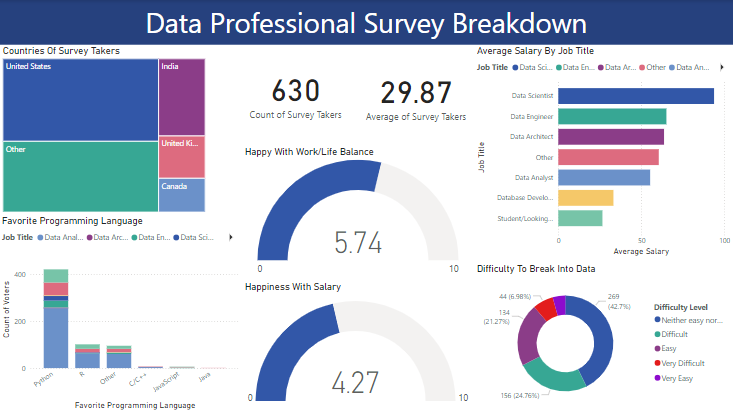

The page's visual inventory and layout, read from the dashboard file:
{"tool":"powerbi","page":{"name":"Page 1","canvas":[1280,720],"ordinal":0},"visuals":[{"type":"textbox","box":[10,0,280,280],"z":0},{"type":"textbox","box":[0,0,1280.2,77.8],"z":1000},{"type":"card","fields":{"Values":["CountNonNull(Data Professional Survey.Unique ID)"]},"box":[408.1,78.5,218,163.9],"z":2000},{"type":"card","fields":{"Values":["Avg(Data Professional Survey.Q10 - Current Age)"]},"box":[626,78.5,202.3,172.6],"z":3000},{"type":"barChart","title":"Average Salary By Job Title","fields":{"Category":["Data Professional Survey.Q1 - Which Title Best Fits your Current Role?.1.1"],"Y":["Avg(Data Professional Survey.Average Salary)"],"Series":["Data Professional Survey.Q1 - Which Title Best Fits your Current Role?.1.1"]},"box":[828.3,78.5,451.7,373.2],"z":4000},{"type":"columnChart","title":"Favorite Programming Language","fields":{"Category":["Data Professional Survey.Q5 - Favorite Programming Language.1"],"Y":["CountNonNull(Data Professional Survey.Unique ID)"],"Series":["Data Professional Survey.Q1 - Which Title Best Fits your Current Role?.1.1"]},"box":[0,374.9,423.8,345.3],"z":5000},{"type":"treemap","title":"Countries Of Survey Takers","fields":{"Group":["Data Professional Survey.Q11 - Which Country do you live in?.1"],"Values":["CountNonNull(Data Professional Survey.Q11 - Which Country do you live in?.1)"]},"box":[1.7,78.5,362.7,296.5],"z":5001},{"type":"gauge","title":"Happy With Work/Life Balance","fields":{"Y":["Avg(Data Professional Survey.Q6 - How Happy are you in your Current Position with the following? (Work/Life Balance))"],"MinValue":["Min(Data Professional Survey.Q6 - How Happy are you in your Current Position with the following? (Work/Life Balance))"],"MaxValue":["Max(Data Professional Survey.Q6 - How Happy are you in your Current Position with the following? (Work/Life Balance))1"]},"box":[423.8,254.6,404.6,235.4],"z":5002},{"type":"gauge","title":"Happiness With Salary","fields":{"Y":["Avg(Data Professional Survey.Q6 - How Happy are you in your Current Position with the following? (Salary))"],"MinValue":["Min(Data Professional Survey.Q6 - How Happy are you in your Current Position with the following? (Salary))"],"MaxValue":["Max(Data Professional Survey.Q6 - How Happy are you in your Current Position with the following? (Salary))"]},"box":[423.8,490,404.6,230.2],"z":5003},{"type":"donutChart","title":"Difficulty To Break Into Data ","fields":{"Category":["Data Professional Survey.Q7 - How difficult was it for you to break into Data?"],"Y":["CountNonNull(Data Professional Survey.Q7 - How difficult was it for you to break into Data?)"]},"box":[828.3,458.6,451.7,261.6],"z":5004}]}

Visuals, with their boxes in screenshot pixels (x1, y1, x2, y2), scaled from the page's 1280x720 canvas onto the 733x412 screenshot:
textbox: box(6, 0, 166, 160)
textbox: box(0, 0, 732, 45)
card - CountNonNull(Data Professional Survey.Unique ID): box(234, 45, 359, 139)
card - Avg(Data Professional Survey.Q10 - Current Age): box(358, 45, 474, 144)
"Average Salary By Job Title" barChart: box(474, 45, 732, 258)
"Favorite Programming Language" columnChart: box(0, 215, 243, 411)
"Countries Of Survey Takers" treemap: box(1, 45, 209, 215)
"Happy With Work/Life Balance" gauge: box(243, 146, 474, 280)
"Happiness With Salary" gauge: box(243, 280, 474, 411)
"Difficulty To Break Into Data " donutChart: box(474, 262, 732, 411)
